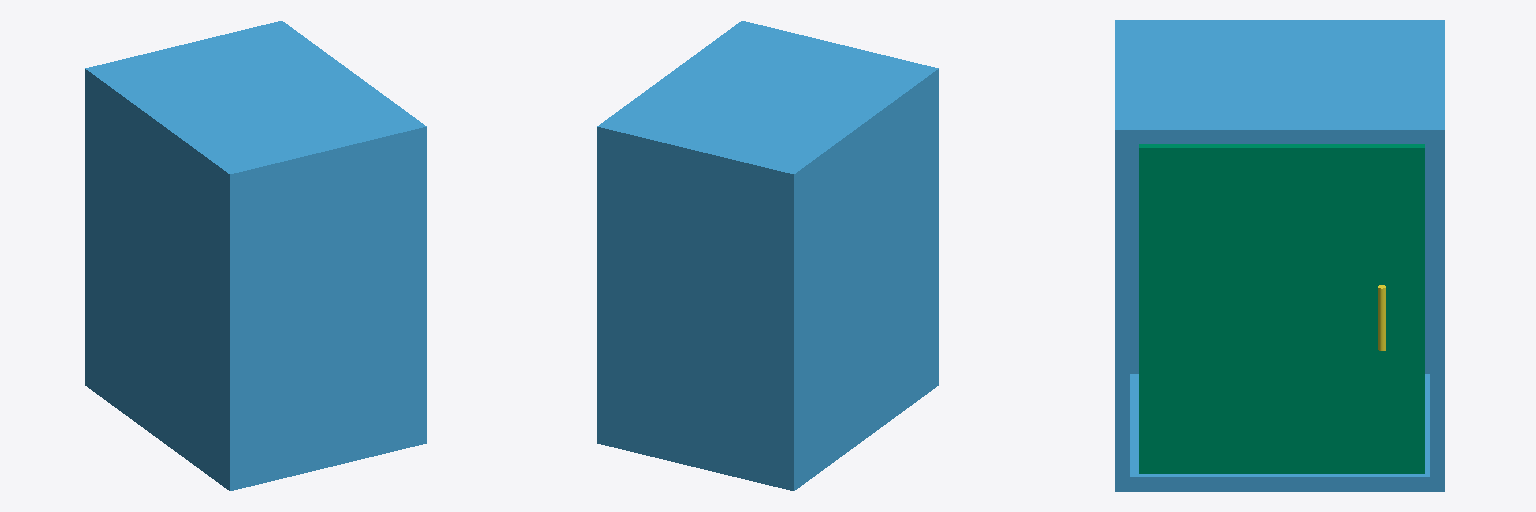
The robot description file, URDF, robot "my_cabinet":
<?xml version="1.0" ?>
<robot name="my_cabinet">
	<link name="world"/>
	<joint name="virtual_joint" type="fixed">
		<parent link="world"/>
		<child link="base_cabinet_link"/>
		<origin xyz="0.0 0.0 0.0" rpy="0.0 0.0 0.0"/>
	</joint>
	<link name="base_cabinet_link">
		<visual>
			<origin xyz="0.0 -0.0025 -0.22168032057774842" rpy="0.0 0.0 0.0"/>
			<geometry>
				<box size="0.3 0.3823580786961049 0.018"/>
			</geometry>
		</visual>
		<collision name="base_cabinet_link_collision_0">
			<origin xyz="0.0 -0.0025 -0.22168032057774842" rpy="0.0 0.0 0.0"/>
			<geometry>
				<box size="0.3 0.3823580786961049 0.018"/>
			</geometry>
		</collision>
		<visual>
			<origin xyz="0.0 0.17967903934805246 0.0" rpy="0.0 0.0 0.0"/>
			<geometry>
				<box size="0.3 0.018 0.46136064115549685"/>
			</geometry>
		</visual>
		<collision name="base_cabinet_link_collision_1">
			<origin xyz="0.0 0.17967903934805246 0.0" rpy="0.0 0.0 0.0"/>
			<geometry>
				<box size="0.3 0.018 0.46136064115549685"/>
			</geometry>
		</collision>
		<visual>
			<origin xyz="0.0 -0.18467903934805247 0.0" rpy="0.0 0.0 0.0"/>
			<geometry>
				<box size="0.3 0.018 0.46136064115549685"/>
			</geometry>
		</visual>
		<collision name="base_cabinet_link_collision_2">
			<origin xyz="0.0 -0.18467903934805247 0.0" rpy="0.0 0.0 0.0"/>
			<geometry>
				<box size="0.3 0.018 0.46136064115549685"/>
			</geometry>
		</collision>
		<visual>
			<origin xyz="0.0 -0.0025 0.22168032057774842" rpy="0.0 0.0 0.0"/>
			<geometry>
				<box size="0.3 0.3823580786961049 0.018"/>
			</geometry>
		</visual>
		<collision name="base_cabinet_link_collision_3">
			<origin xyz="0.0 -0.0025 0.22168032057774842" rpy="0.0 0.0 0.0"/>
			<geometry>
				<box size="0.3 0.3823580786961049 0.018"/>
			</geometry>
		</collision>
		<visual>
			<origin xyz="-0.141 -0.0025 0.0" rpy="0.0 0.0 0.0"/>
			<geometry>
				<box size="0.018 0.3823580786961049 0.46136064115549685"/>
			</geometry>
		</visual>
		<collision name="base_cabinet_link_collision_4">
			<origin xyz="-0.141 -0.0025 0.0" rpy="0.0 0.0 0.0"/>
			<geometry>
				<box size="0.018 0.3823580786961049 0.46136064115549685"/>
			</geometry>
		</collision>
		<inertial>
			<mass value="0.200000"/>
			<inertia ixx="0.005984" ixy="0.0" ixz="0.0" iyy="0.005048" iyz="0.0" izz="0.003937"/>
		</inertial>
	</link>
	<link name="door_link">
		<visual>
			<origin xyz="0.0 -0.16567903934805245 0.0"/>
			<geometry>
				<box size="0.018 0.3313580786961049 0.4153606411554968"/>
			</geometry>
		</visual>
		<collision name="door_link_collision">
			<origin xyz="0.0 -0.16567903934805245 0.0"/>
			<geometry>
				<box size="0.018 0.3313580786961049 0.4153606411554968"/>
			</geometry>
		</collision>
		<inertial>
			<mass value="0.200000"/>
			<inertia ixx="0.004705" ixy="0.0" ixz="0.0" iyy="0.002881" iyz="0.0" izz="0.001835"/>
		</inertial>
	</link>
	<joint name="door_joint" type="revolute">
		<origin xyz="0.141 -0.16567903934805245 0.0" rpy="0.000000 -0.000000 3.141593"/>
		<axis xyz="0 0 1"/>
		<parent link="base_cabinet_link"/>
		<child link="door_link"/>
		<limit effort="50" lower="-1.658062789394613" upper="0" velocity="10"/>
		<dynamics friction="3.5" damping="3.5"/>
	</joint>
	<link name="handle_link">
		<visual>
			<origin xyz="0.0 0.0 0.0" rpy="0.0 0.0 0.0"/>
			<geometry>
				<cylinder length="0.08" radius="0.005"/>
			</geometry>
		</visual>
		<collision name="handle_link_collision_0">
			<origin xyz="0.0 0.0 0.0" rpy="0.0 0.0 0.0"/>
			<geometry>
				<cylinder length="0.08" radius="0.005"/>
			</geometry>
		</collision>
		<visual>
			<origin xyz="-0.01 0.0 0.02" rpy="0.0 1.5707963267948966 0.0"/>
			<geometry>
				<cylinder length="0.02" radius="0.003"/>
			</geometry>
		</visual>
		<collision name="handle_link_collision_1">
			<origin xyz="-0.01 0.0 0.02" rpy="0.0 1.5707963267948966 0.0"/>
			<geometry>
				<cylinder length="0.01" radius="0.003"/>
			</geometry>
		</collision>
		<visual>
			<origin xyz="-0.01 0.0 -0.02" rpy="0.0 1.5707963267948966 0.0"/>
			<geometry>
				<cylinder length="0.02" radius="0.003"/>
			</geometry>
		</visual>
		<collision name="handle_link_collision_2">
			<origin xyz="-0.01 0.0 -0.02" rpy="0.0 1.5707963267948966 0.0"/>
			<geometry>
				<cylinder length="0.02" radius="0.003"/>
			</geometry>
		</collision>
		<inertial>
			<mass value="0.050000"/>
			<inertia ixx="0.000027" ixy="0.0" ixz="0.0" iyy="0.000029" iyz="0.0" izz="0.000003"/>
		</inertial>
	</link>
	<joint name="handle_joint" type="fixed">
		<origin xyz="-0.028999999999999998 -0.2813580786961049 0.0" rpy="0.000000 -0.000000 3.141593"/>
		<parent link="door_link"/>
		<child link="handle_link"/>
	</joint>
	<gazebo reference="base_cabinet_link">
		<sensor name="main_sensor" type="contact">
			<selfCollide>true</selfCollide>
			<alwaysOn>true</alwaysOn>
			<updateRate>5.0</updateRate>
			<material>Gazebo/Red</material>
			<contact>
				<collision>base_cabinet_link_collision_0_collision</collision>
				<collision>base_cabinet_link_collision_1_collision</collision>
				<collision>base_cabinet_link_collision_2_collision</collision>
				<collision>base_cabinet_link_collision_3_collision</collision>
				<collision>base_cabinet_link_collision_4_collision</collision>
			</contact>
			<plugin name="gazebo_ros_bumper_controller" filename="libgazebo_ros_bumper.so">
				<bumperTopicName>/contact</bumperTopicName>
				<frameName>world</frameName>
			</plugin>
		</sensor>
	</gazebo>
	<gazebo reference="door_link">
		<sensor name="main_sensor" type="contact">
			<selfCollide>true</selfCollide>
			<alwaysOn>true</alwaysOn>
			<updateRate>5.0</updateRate>
			<material>Gazebo/Red</material>
			<contact>
				<collision>door_link_collision_collision</collision>
			</contact>
			<plugin name="gazebo_ros_bumper_controller" filename="libgazebo_ros_bumper.so">
				<bumperTopicName>/contact_door</bumperTopicName>
				<frameName>contact_door</frameName>
			</plugin>
		</sensor>
	</gazebo>
	<gazebo reference="door_link">
		<mu>3.0</mu>
		<mu2>3.0</mu2>
		<kp>10000000</kp>
		<kd>100</kd>
	</gazebo>
</robot>

--- Facts derived from the render (not from the file) ---
The picture shows the robot from 3 angles, left to right: view 1: azimuth 30°, elevation 25°; view 2: azimuth 150°, elevation 25°; view 3: azimuth 270°, elevation 25°; orthographic projection.
Robot: my_cabinet — 4 links, 3 joints (1 revolute, 2 fixed); root link world; default pose: all joints at 0.
Visible links, largest first — view 1: base_cabinet_link; view 2: base_cabinet_link; view 3: door_link, base_cabinet_link, handle_link.
Link boxes in pixels (box(x1,y1,x2,y2)): base_cabinet_link: box(85, 21, 426, 490); base_cabinet_link: box(597, 21, 938, 490); door_link: box(1139, 144, 1424, 473); base_cabinet_link: box(1115, 20, 1444, 491); handle_link: box(1378, 285, 1385, 350).
Size in the robot's own frame: 0.325 by 0.3824 by 0.4614 metres.
Geometry: primitives only (box / cylinder / sphere), no mesh files.
